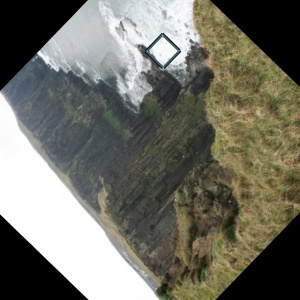square: (144, 31, 181, 71)
